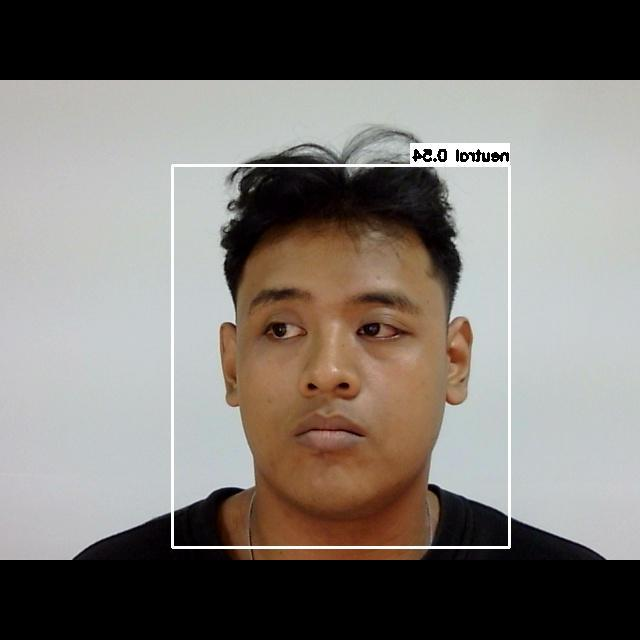Natural: (250, 284, 417, 462)
